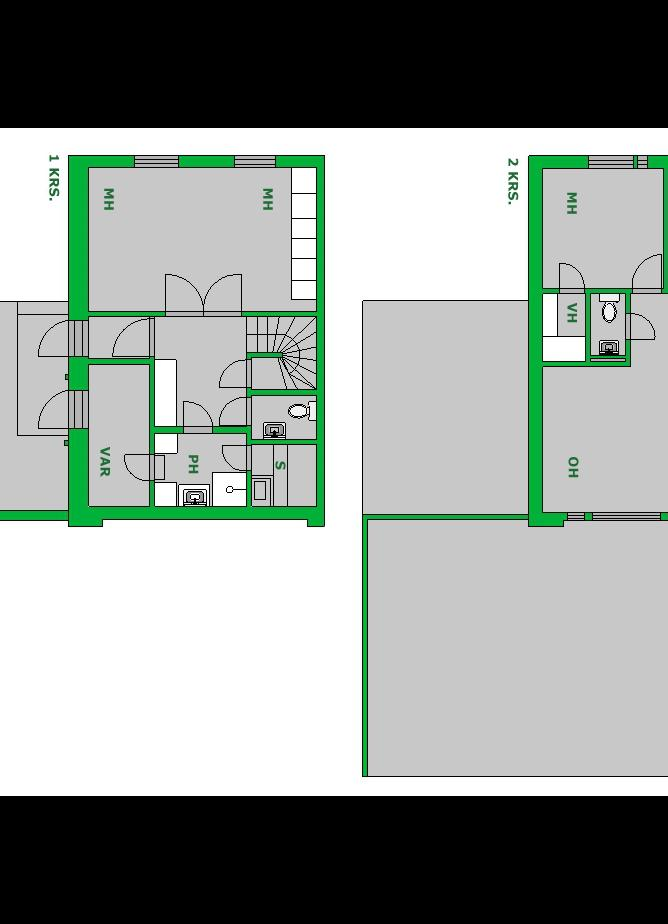door: (202, 268, 248, 319), (105, 318, 156, 364), (160, 270, 204, 319), (32, 389, 78, 435), (38, 317, 79, 363), (628, 252, 664, 296), (212, 395, 249, 434), (122, 450, 166, 482), (214, 442, 253, 477), (217, 356, 254, 392), (176, 400, 214, 432), (628, 307, 658, 346), (554, 259, 584, 296)
window: (584, 508, 666, 529), (123, 150, 186, 173), (578, 151, 632, 177), (231, 148, 282, 172), (560, 511, 590, 525), (632, 152, 652, 169)
